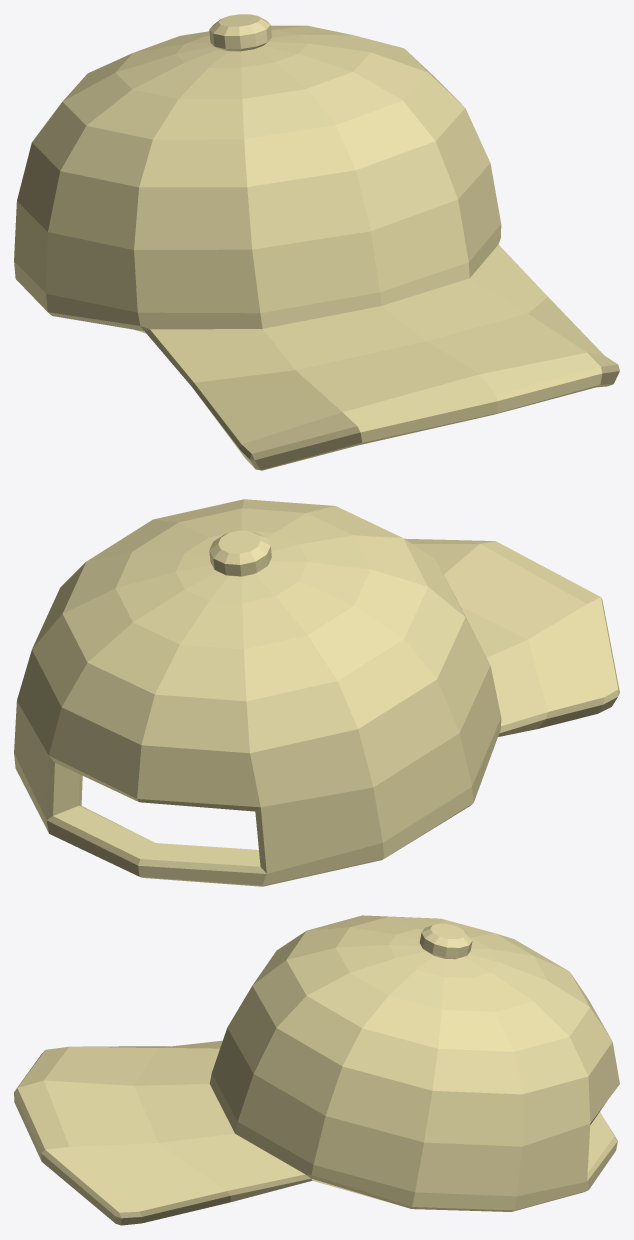
The model's file is Cap.fbx.
3 views of the same model, one above another, from view 1: azimuth 30°, elevation 25°; view 2: azimuth 150°, elevation 25°; view 3: azimuth 270°, elevation 25° (orthographic). The views are drawn at different scales.
Parts seen in each view (by area): view 1: Cap; view 2: Cap; view 3: Cap.
Part boxes in pixels (x1=…): Cap: x1=14, y1=14, x2=619, y2=470; Cap: x1=14, y1=499, x2=619, y2=886; Cap: x1=14, y1=915, x2=619, y2=1225.
Size of the model in its own units: 8.07 by 4.85 by 11.83.
